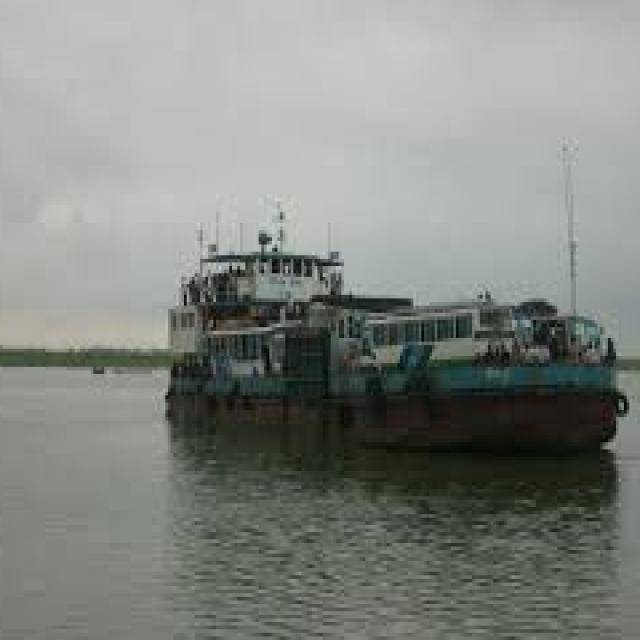fishing boat: (164, 238, 624, 444)
